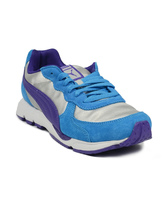shoes: (14, 47, 159, 157)
